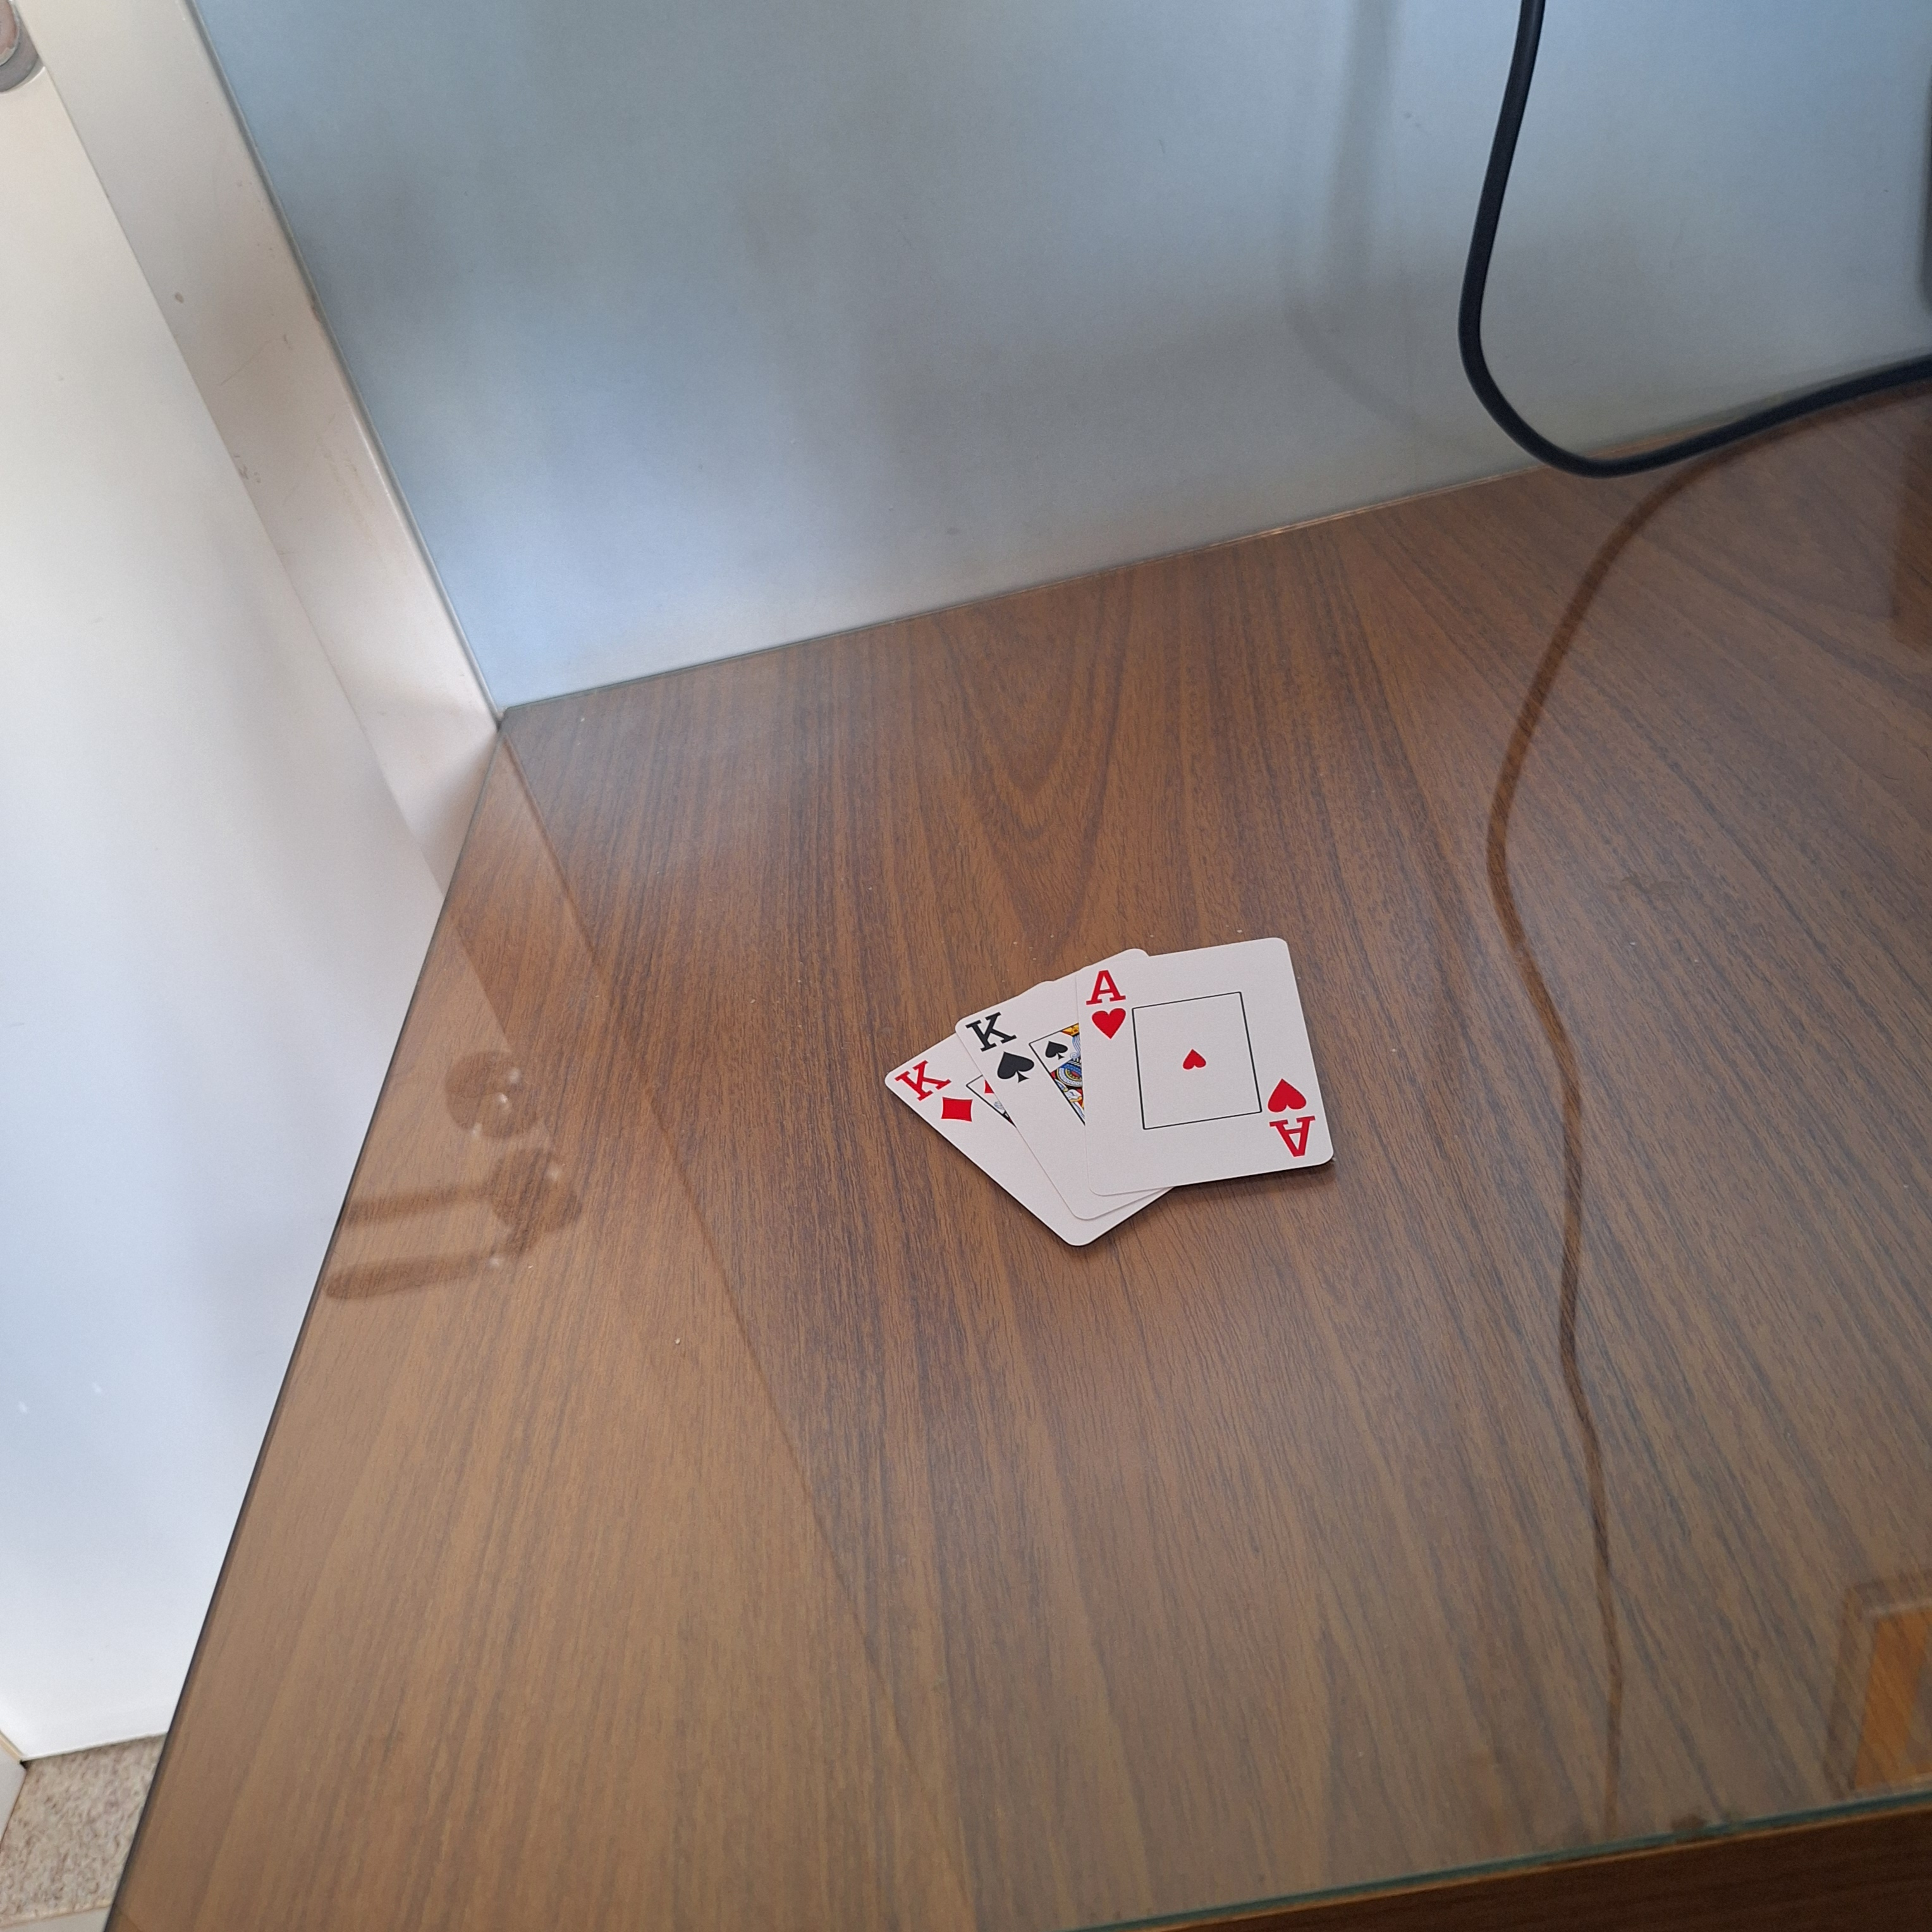AC: (1261, 1072, 1323, 1164), (1079, 961, 1134, 1042)
KE: (959, 1007, 1040, 1090)
KO: (886, 1054, 977, 1125)
